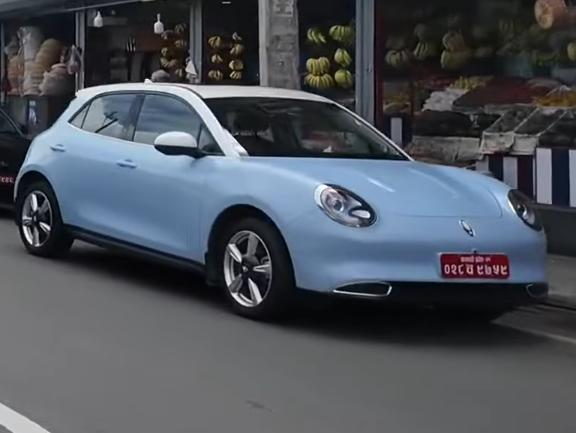car: (9, 77, 552, 324)
